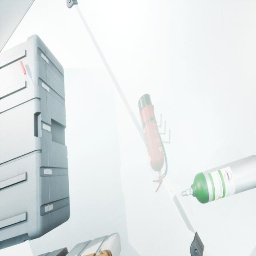0: (180, 155, 256, 204)
FireExtinguisher ]: (138, 94, 168, 192)
